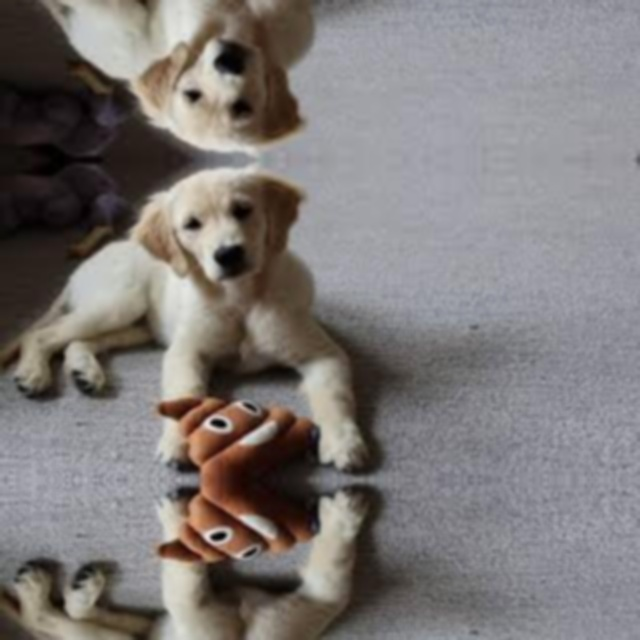dog: (19, 173, 379, 442), (18, 0, 379, 146), (18, 517, 379, 640)
